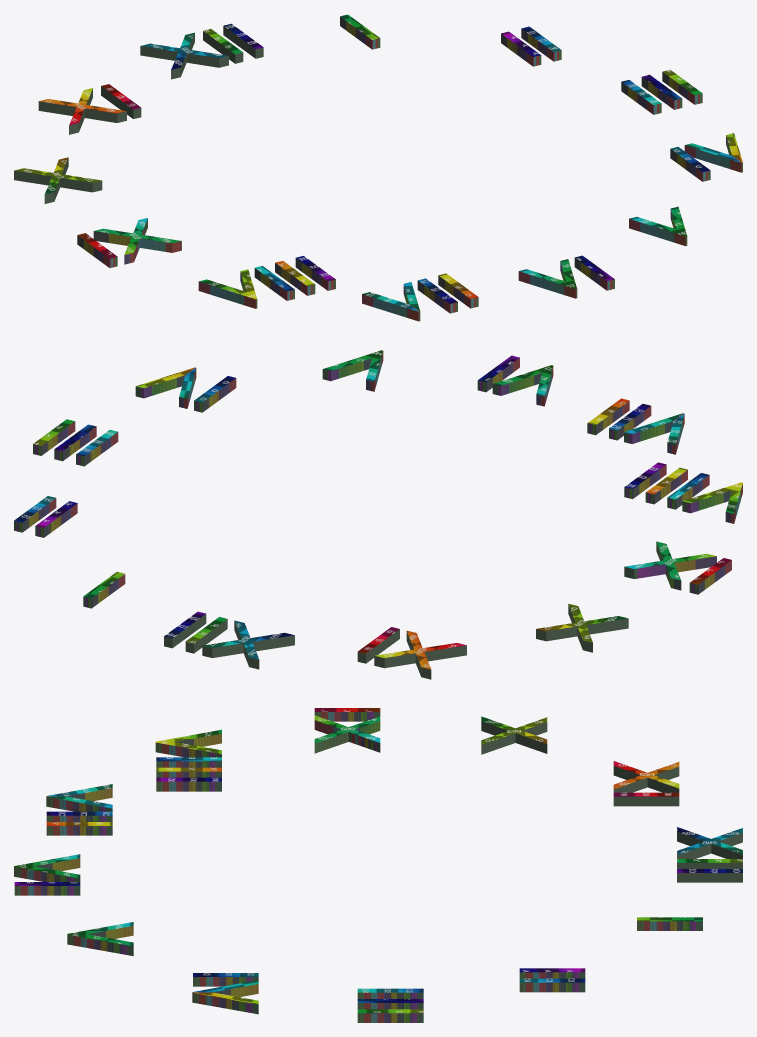
Rendered from clockNumberRing.fbx.
The picture shows the model from 3 angles, top to bottom: view 1: azimuth 30°, elevation 25°; view 2: azimuth 150°, elevation 25°; view 3: azimuth 270°, elevation 25°; orthographic projection. The views are drawn at different scales.
Parts seen in each view (by area): view 1: 1; view 2: 1; view 3: 1.
Boxes of the visible parts, x1,y1,x2,y2 form: 1: (14, 14, 742, 321); 1: (14, 350, 742, 679); 1: (14, 708, 742, 1022).
Size of the model in its own units: 2681 by 40.03 by 2707.
